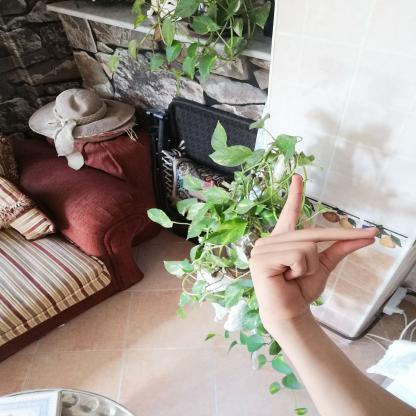TAA: (235, 167, 385, 328)
